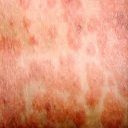Measles: (10, 8, 123, 114)
